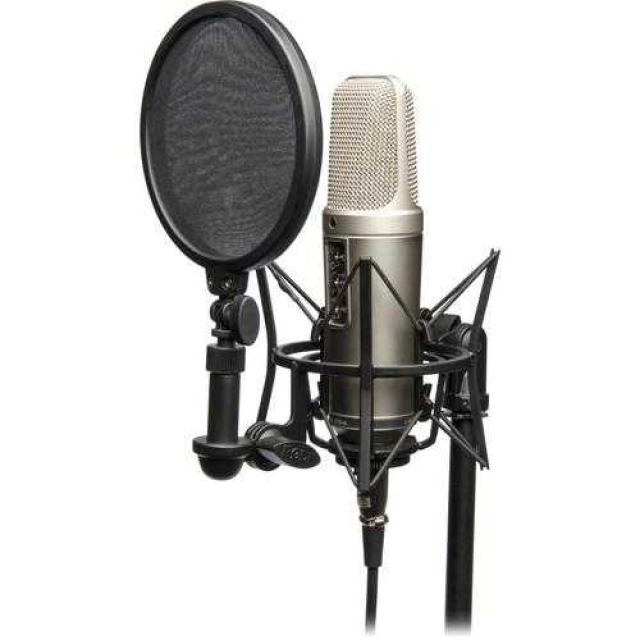microphone: (323, 79, 423, 461)
